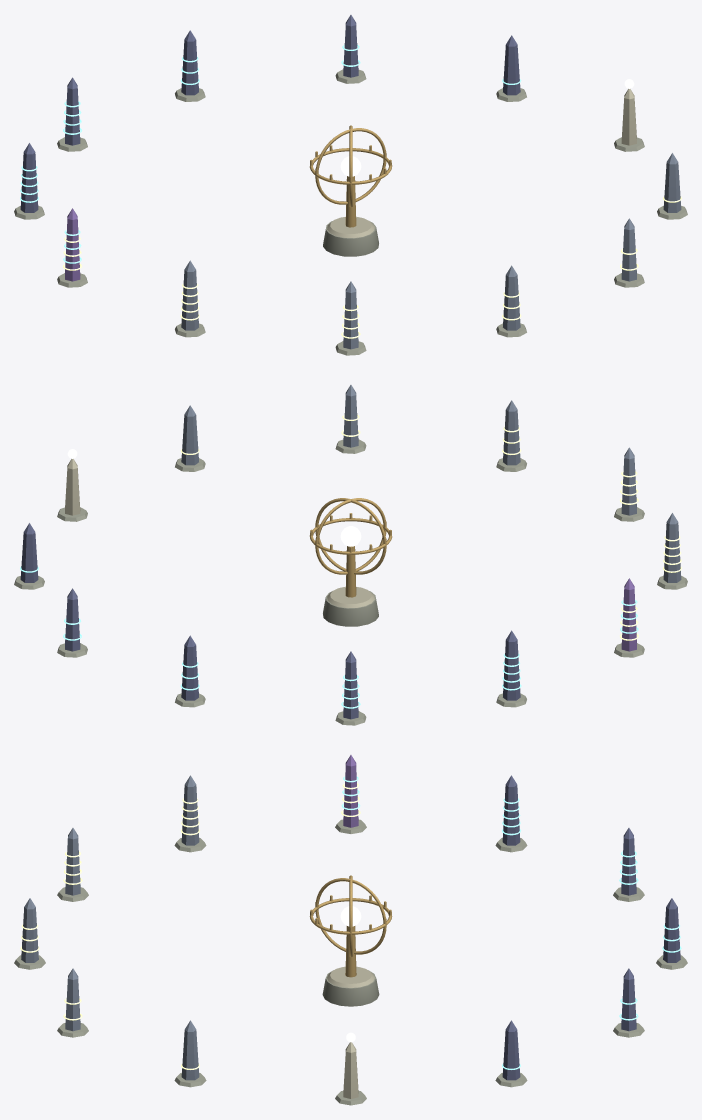
Rendered from landmark-r7-key-ring.glb.
The picture shows the model from 3 angles, top to bottom: view 1: azimuth 30°, elevation 25°; view 2: azimuth 150°, elevation 25°; view 3: azimuth 270°, elevation 25°; orthographic projection.
Parts seen in each view (by area): view 1: Static_Limestone_shadow, Static_Storm_slate, Static_Midnight_stone, Sway_rings, Static_Warm_limestone, Static_Night_violet, Static_Aged_brass; view 2: Static_Limestone_shadow, Static_Midnight_stone, Static_Storm_slate, Sway_rings, Static_Warm_limestone, Static_Night_violet, Static_Aged_brass; view 3: Static_Limestone_shadow, Static_Storm_slate, Static_Midnight_stone, Sway_rings, Static_Warm_limestone, Static_Night_violet, Static_Aged_brass.
Part boxes in pixels (<box>): Static_Limestone_shadow: <box>14,69,687,355</box>; Static_Storm_slate: <box>181,153,681,349</box>; Static_Midnight_stone: <box>20,15,520,212</box>; Sway_rings: <box>309,125,392,207</box>; Static_Warm_limestone: <box>327,89,636,238</box>; Static_Night_violet: <box>65,208,80,281</box>; Static_Aged_brass: <box>310,145,391,227</box>; Static_Limestone_shadow: <box>14,439,687,725</box>; Static_Midnight_stone: <box>20,523,520,719</box>; Static_Storm_slate: <box>181,385,681,582</box>; Sway_rings: <box>309,498,392,574</box>; Static_Warm_limestone: <box>65,459,374,608</box>; Static_Night_violet: <box>621,578,636,651</box>; Static_Aged_brass: <box>310,513,391,597</box>; Static_Limestone_shadow: <box>14,819,687,1105</box>; Static_Storm_slate: <box>21,775,199,1080</box>; Static_Midnight_stone: <box>502,775,680,1080</box>; Sway_rings: <box>309,875,392,957</box>; Static_Warm_limestone: <box>327,966,374,1098</box>; Static_Night_violet: <box>343,755,358,827</box>; Static_Aged_brass: <box>310,895,391,977</box>.
Bounding box in the file's own units: 109 × 20.68 × 109.
